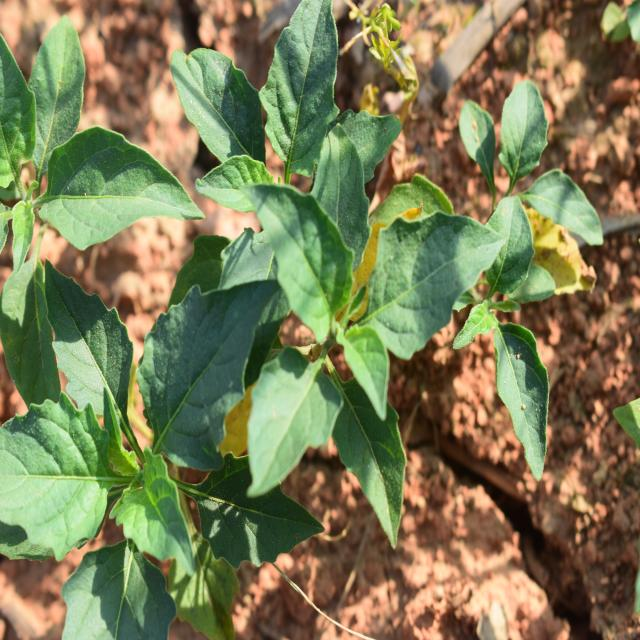Black_nightshade: (21, 276, 282, 626), (248, 176, 460, 524), (448, 60, 581, 456), (180, 23, 385, 244), (0, 37, 182, 276)
